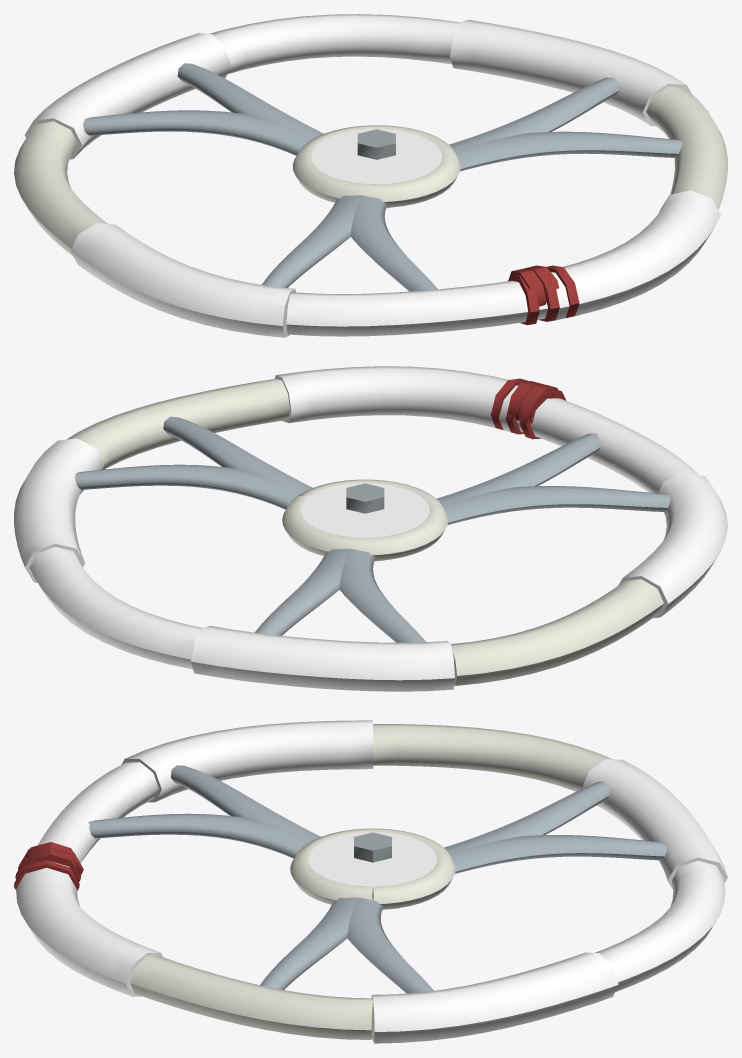
The model's file is Wheel_18_SR_濃藍・逆舷.glb.
3 views of the same model, one above another, from view 1: azimuth 30°, elevation 25°; view 2: azimuth 150°, elevation 25°; view 3: azimuth 270°, elevation 25° (orthographic).
Visible parts, largest first — view 1: Wheel_18_SR; view 2: Wheel_18_SR; view 3: Wheel_18_SR.
Part boxes in pixels (<box>): Wheel_18_SR: <box>14,14,727,337</box>; Wheel_18_SR: <box>14,366,727,691</box>; Wheel_18_SR: <box>14,720,727,1043</box>.
Size of the model in its own units: 0.326 by 0.0299 by 0.3276.
4 materials, 4 textured.
